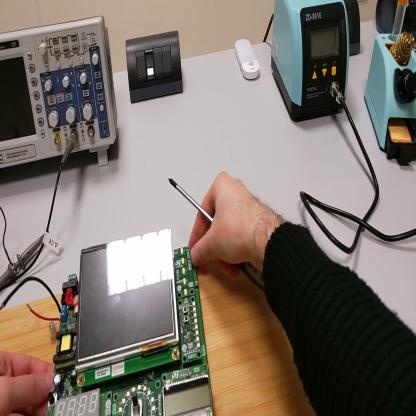hand: (186, 170, 267, 276), (2, 350, 56, 413)
low voltage board: (1, 229, 215, 416)
oscilloscope: (2, 16, 121, 180)
oscilloscope probe tip: (2, 228, 49, 287)
screwdriver-: (170, 173, 215, 224)
socket: (376, 2, 416, 35), (346, 1, 363, 57)
welder base: (366, 1, 416, 165)
welder station: (274, 1, 352, 127)
working area: (2, 263, 318, 416)
